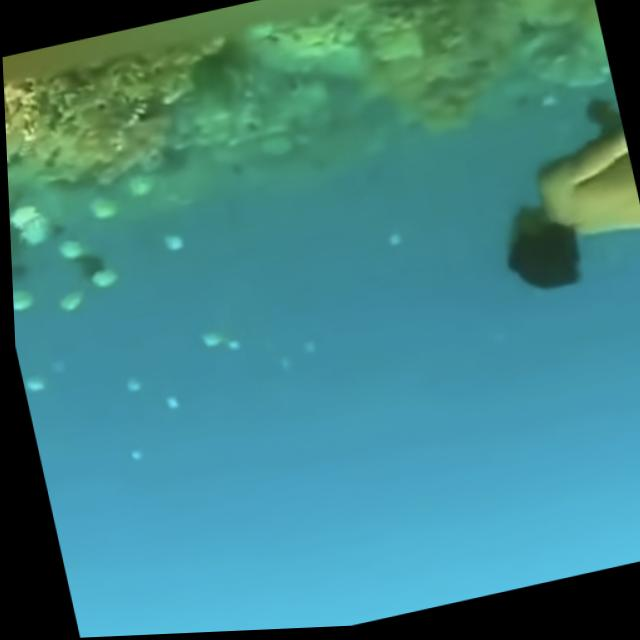human: (461, 56, 640, 313)
